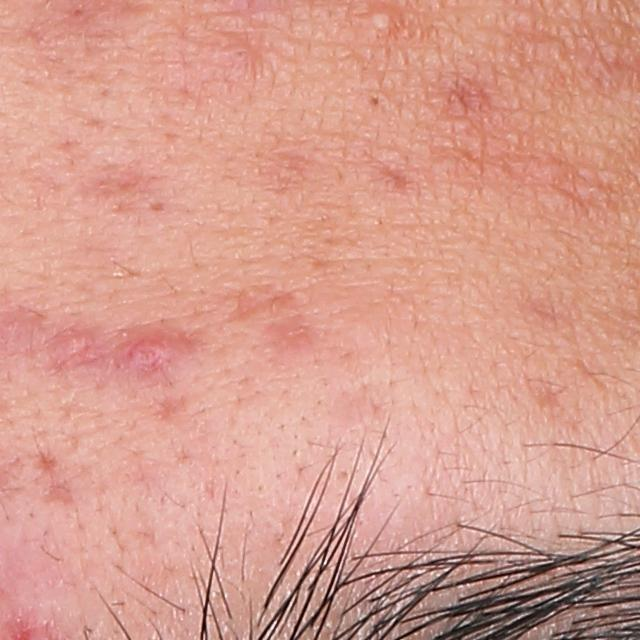atrophic_scar: (30, 452, 73, 504)
comedo: (218, 40, 253, 66), (362, 88, 388, 115)
papule: (112, 324, 188, 391), (50, 331, 94, 366)
